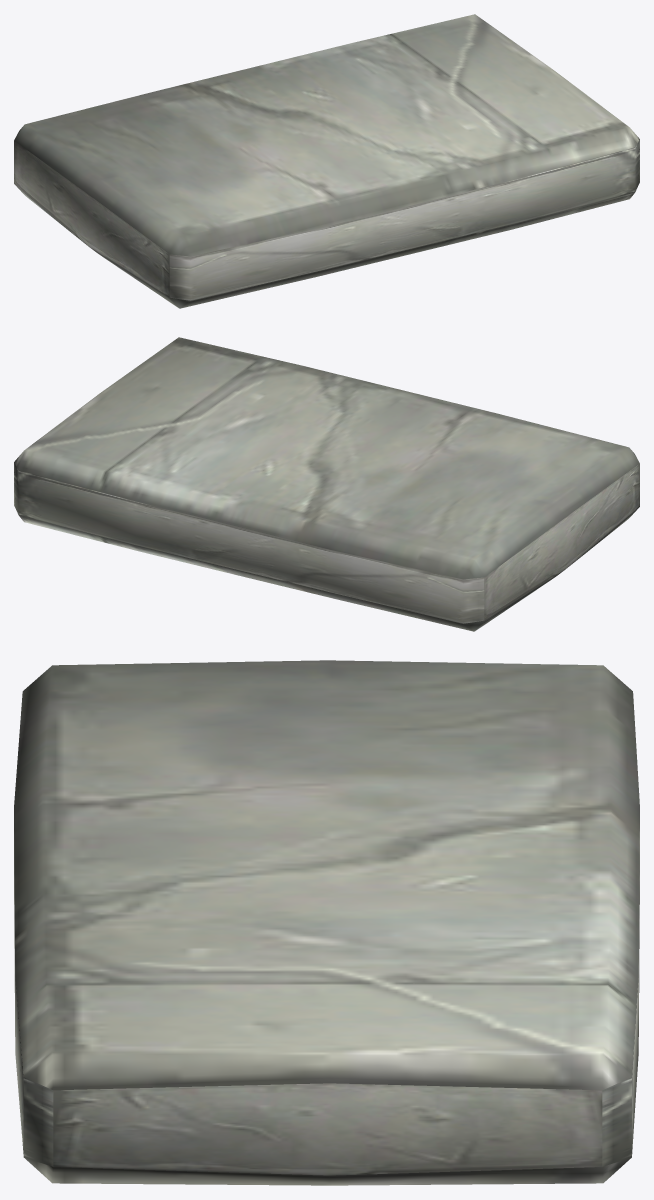
The model's file is Wall_Block_02.FBX.
3 renders of one model, top to bottom at view 1: azimuth 30°, elevation 25°; view 2: azimuth 150°, elevation 25°; view 3: azimuth 270°, elevation 25°, orthographic. The views are drawn at different scales.
Parts seen in each view (by area): view 1: Wall_Block_02; view 2: Wall_Block_02; view 3: Wall_Block_02.
Boxes of the visible parts, bbox=[...] form: Wall_Block_02: bbox=[14, 14, 639, 308]; Wall_Block_02: bbox=[14, 337, 639, 631]; Wall_Block_02: bbox=[14, 660, 639, 1185].
Size of the model in its own units: 143 by 21.04 by 91.7.
